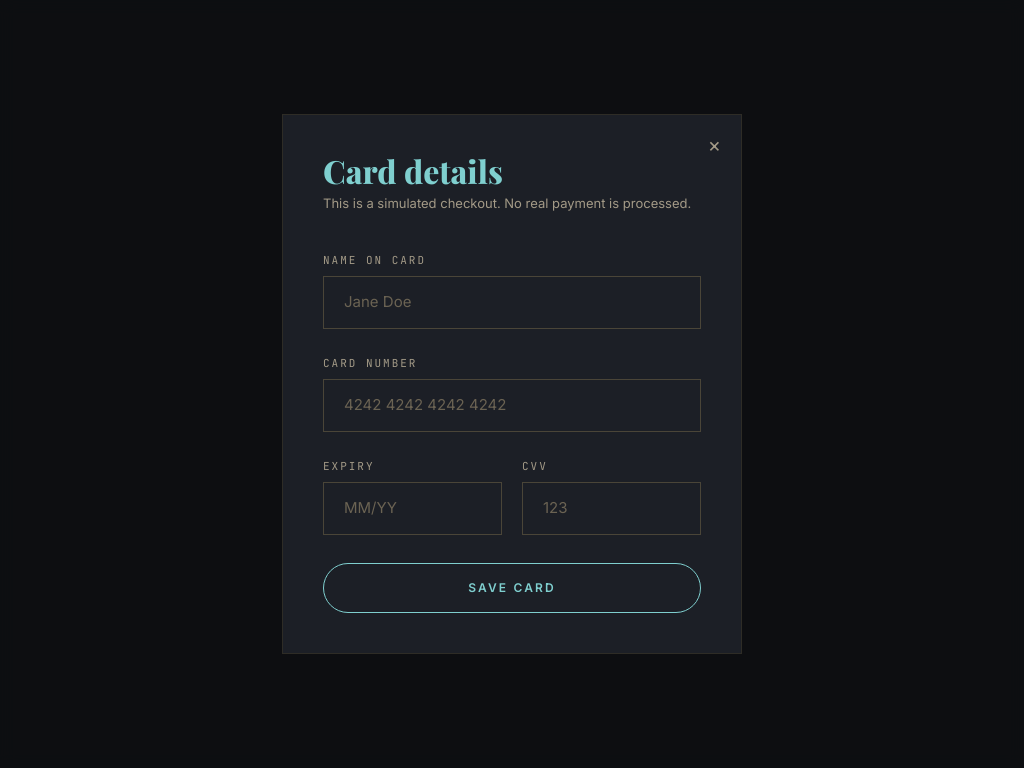
Test: CardDetailsModal › shows validation errors when submitting an empty form
Click the button "Save card": (512, 588) [323,563,701,613]
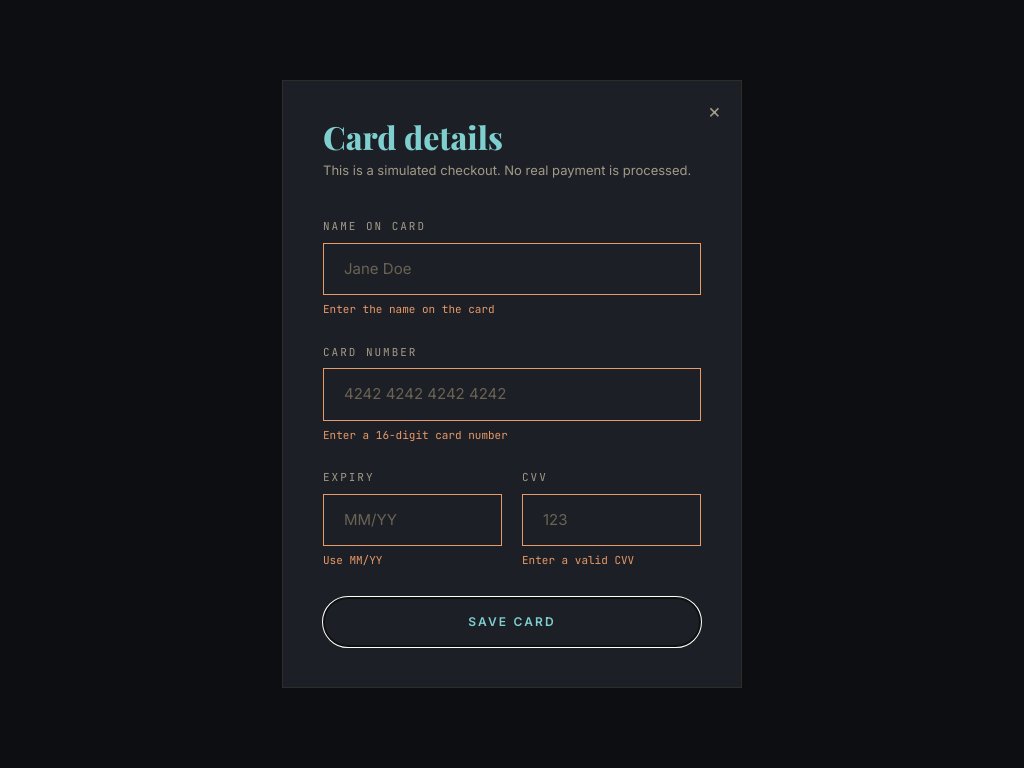
Expected: the text "Enter the name on the card" is shown, [323,302,495,316]
Expected: the text "Enter a 16-digit card number" is shown, [323,428,508,442]
Expected: the text "Use MM/YY" is shown, [323,553,382,567]
